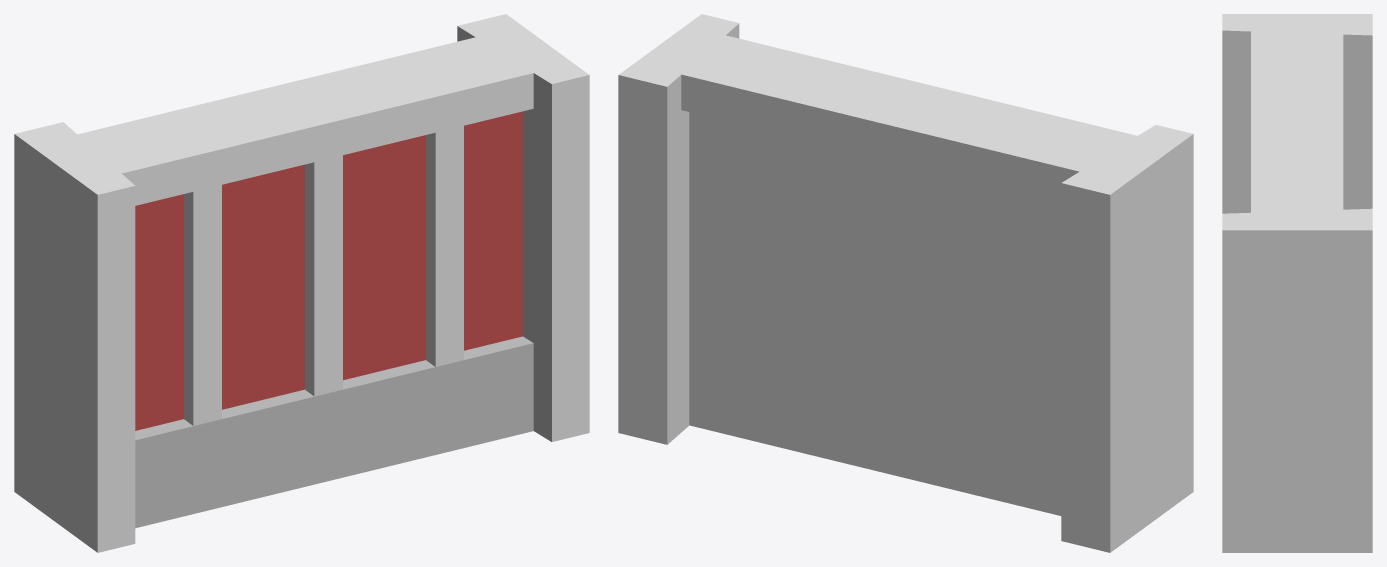
File: Fence 1.fbx
The picture shows the model from 3 angles, left to right: view 1: azimuth 30°, elevation 25°; view 2: azimuth 150°, elevation 25°; view 3: azimuth 270°, elevation 25°; orthographic projection. The views are drawn at different scales.
Parts seen in each view (by area): view 1: Fence 1; view 2: Fence 1; view 3: Fence 1.
Part boxes in pixels (box(x1,y1,x2,y2)): Fence 1: box(14, 14, 589, 552); Fence 1: box(618, 14, 1193, 552); Fence 1: box(1222, 14, 1372, 552).
Size of the model in its own units: 609 by 424 by 179.
